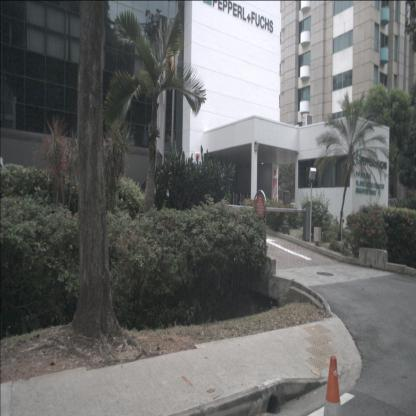movable_object-trafficcone: (310, 355, 350, 416)
